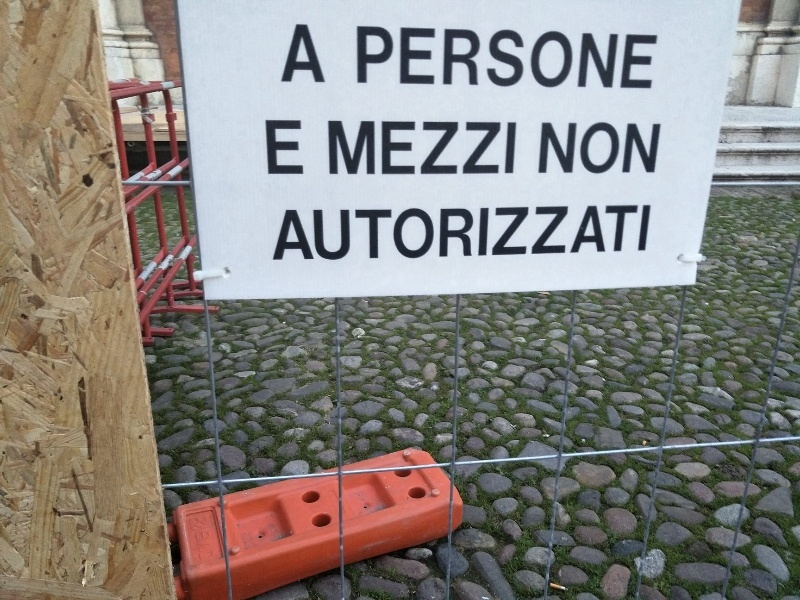text: (369, 24, 384, 93), (385, 24, 400, 93), (401, 24, 416, 93), (417, 24, 432, 93), (433, 24, 448, 93), (449, 24, 464, 93), (465, 24, 480, 93), (481, 24, 496, 93), (497, 24, 512, 93), (513, 24, 528, 93), (529, 24, 544, 93), (545, 24, 560, 93), (561, 24, 576, 93), (577, 24, 592, 93), (593, 24, 608, 93), (609, 24, 624, 93), (625, 24, 640, 93), (641, 24, 656, 93), (305, 21, 320, 85), (289, 203, 304, 263), (305, 203, 320, 263), (321, 203, 336, 263), (337, 203, 352, 263), (353, 203, 368, 263), (369, 203, 384, 263), (385, 203, 400, 263), (401, 203, 416, 263), (417, 203, 432, 263), (433, 203, 448, 263), (449, 203, 464, 263), (465, 203, 480, 263), (481, 203, 496, 263), (497, 203, 512, 263), (513, 203, 528, 263), (529, 203, 544, 263), (545, 203, 560, 263), (561, 203, 576, 263), (577, 203, 592, 263), (593, 203, 608, 263), (609, 203, 624, 263), (625, 203, 640, 263), (355, 24, 368, 93), (289, 120, 305, 176), (273, 120, 288, 176), (337, 121, 352, 176), (353, 121, 368, 176), (369, 121, 384, 176), (385, 121, 400, 176), (401, 121, 416, 176), (417, 121, 432, 176), (433, 121, 448, 176), (449, 121, 464, 176), (465, 121, 480, 176), (481, 121, 496, 176), (497, 121, 512, 176), (545, 122, 560, 176), (561, 122, 576, 176), (577, 122, 592, 176), (593, 122, 608, 176), (609, 122, 624, 176), (625, 122, 640, 176), (641, 122, 656, 176), (641, 203, 653, 263), (295, 21, 304, 85), (321, 21, 328, 85), (328, 121, 336, 176), (265, 120, 272, 176), (513, 121, 519, 176), (657, 122, 663, 176), (657, 24, 661, 93), (541, 122, 544, 176), (286, 203, 288, 263)
